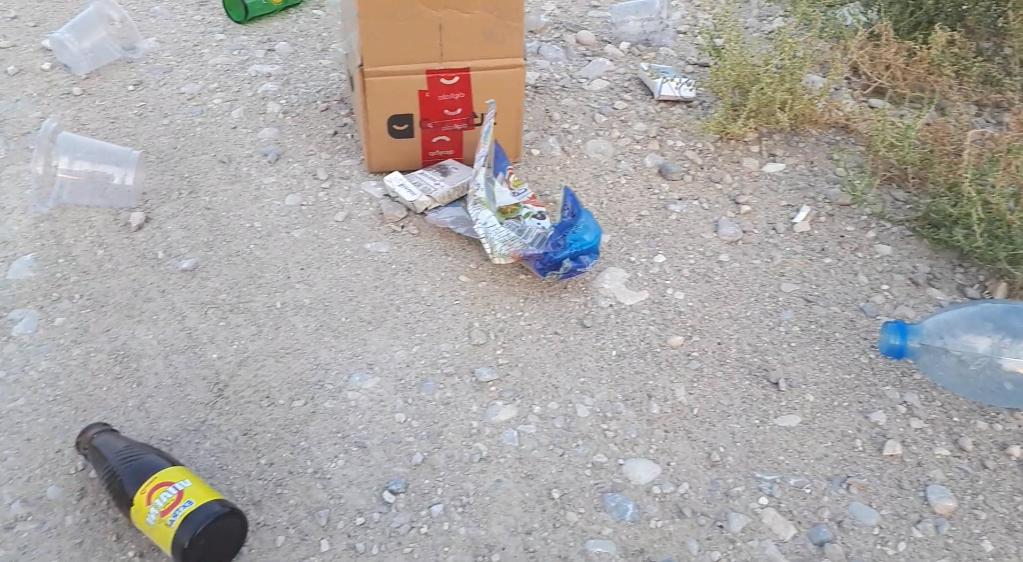garbage: (338, 132, 617, 304), (344, 0, 536, 191), (52, 413, 280, 562), (75, 423, 247, 562), (864, 295, 1023, 422), (877, 299, 1023, 410), (222, 0, 303, 23)
